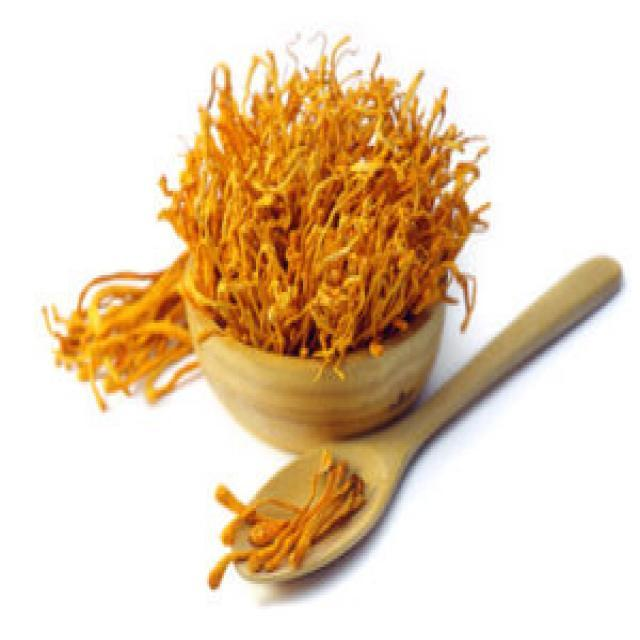Cordyceps militaris: (159, 65, 479, 349), (39, 267, 206, 401), (207, 458, 365, 579)
